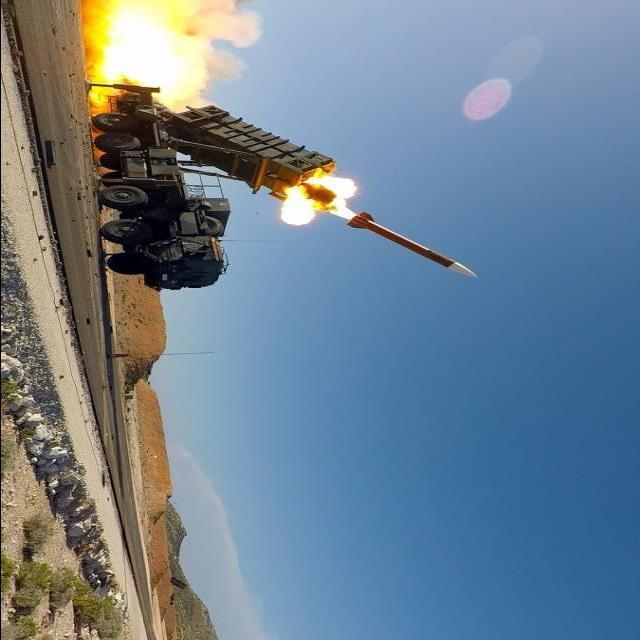Missile: (335, 211, 490, 281)
